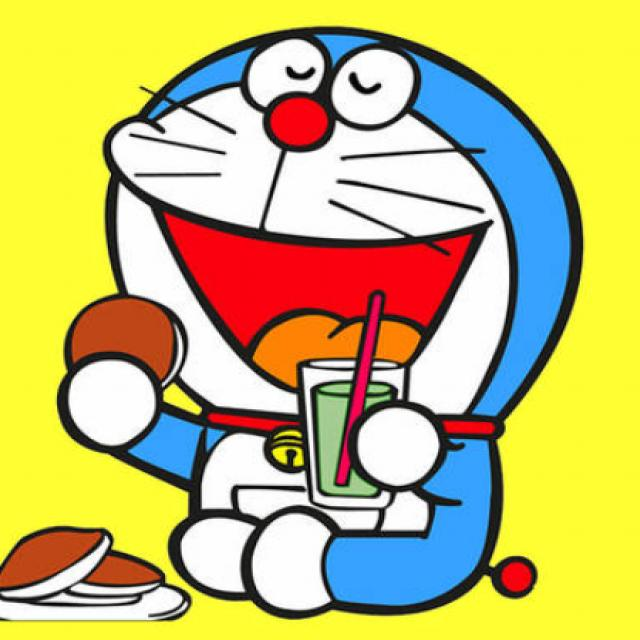Ameng: (104, 19, 586, 453)
